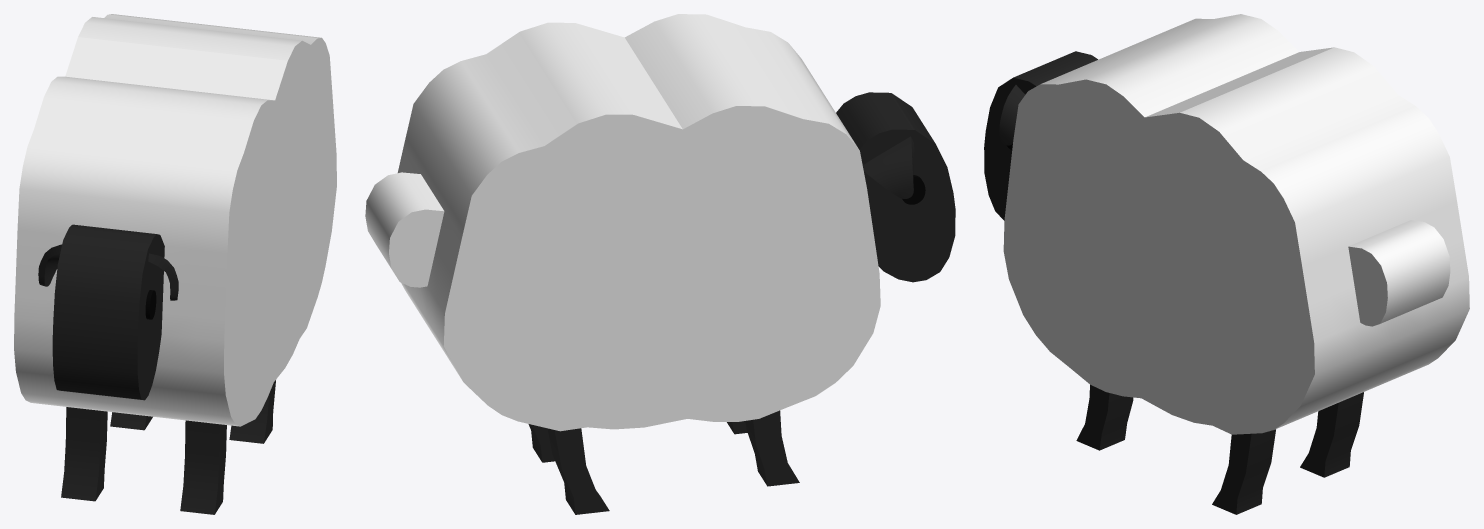
File: ewe.glb
3 views of the same model, side by side, from view 1: azimuth 30°, elevation 25°; view 2: azimuth 150°, elevation 25°; view 3: azimuth 270°, elevation 25° (orthographic). The views are drawn at different scales.
Parts seen in each view (by area): view 1: Plane.123, Cube.6236; view 2: Plane.123, Cube.6236; view 3: Plane.123, Cube.6236.
Boxes of the visible parts, box(x1,y1,x2,y2) form: Plane.123: box(14, 14, 336, 514); Cube.6236: box(38, 244, 178, 300); Plane.123: box(365, 14, 955, 514); Cube.6236: box(862, 136, 914, 198); Plane.123: box(984, 14, 1469, 514); Cube.6236: box(999, 85, 1025, 145).
Bounding box in the file's own units: 2.22 × 2.01 × 2.22.
1 material, 1 textured.
